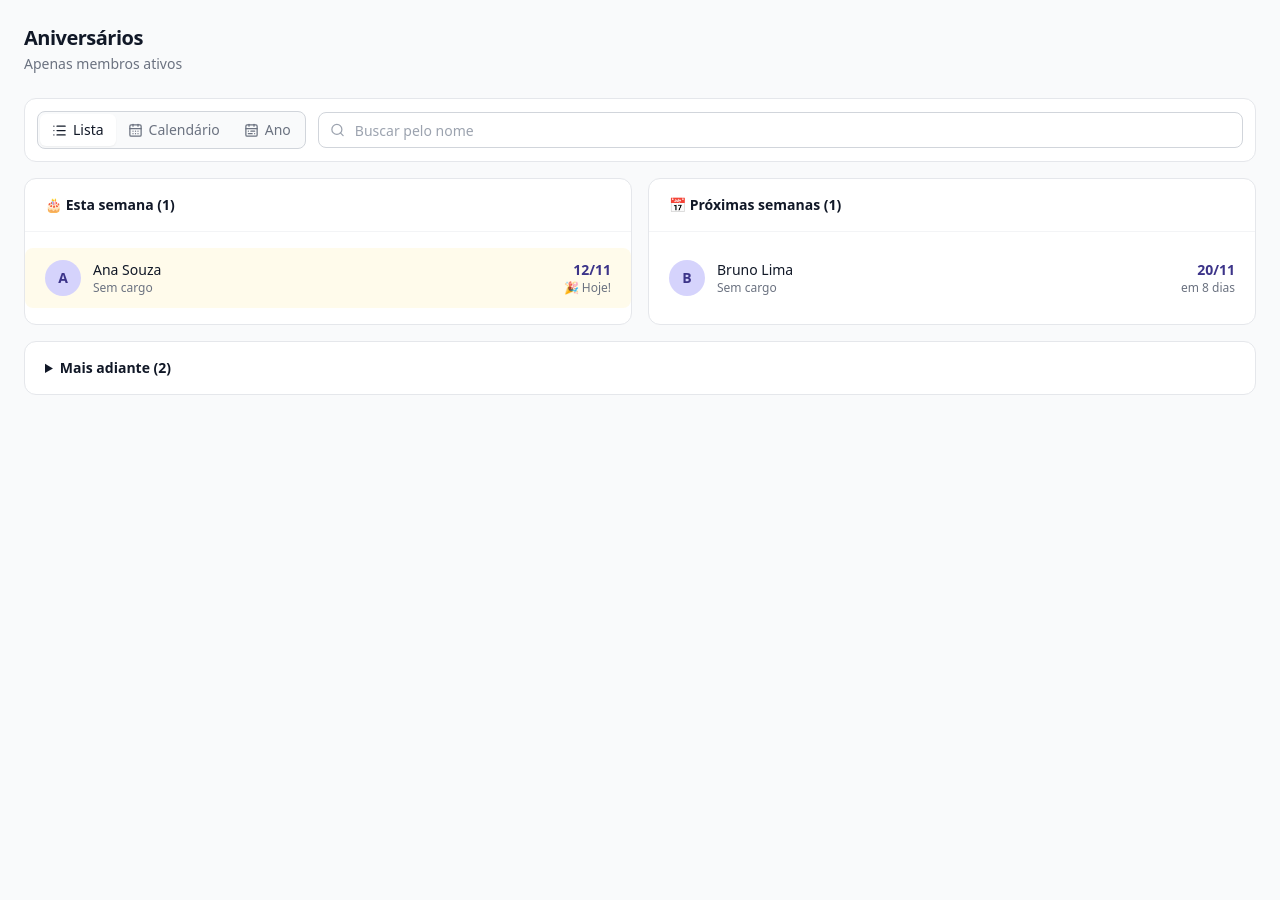
it: AniversariosPage › visão "Ano": os 12 meses, cada um com os aniversariantes em ordem de dia
What coordinates should you click on to do the following:
click the button "Ano"
I would click on:
 (267, 130)
Its box is [232,114,303,146].
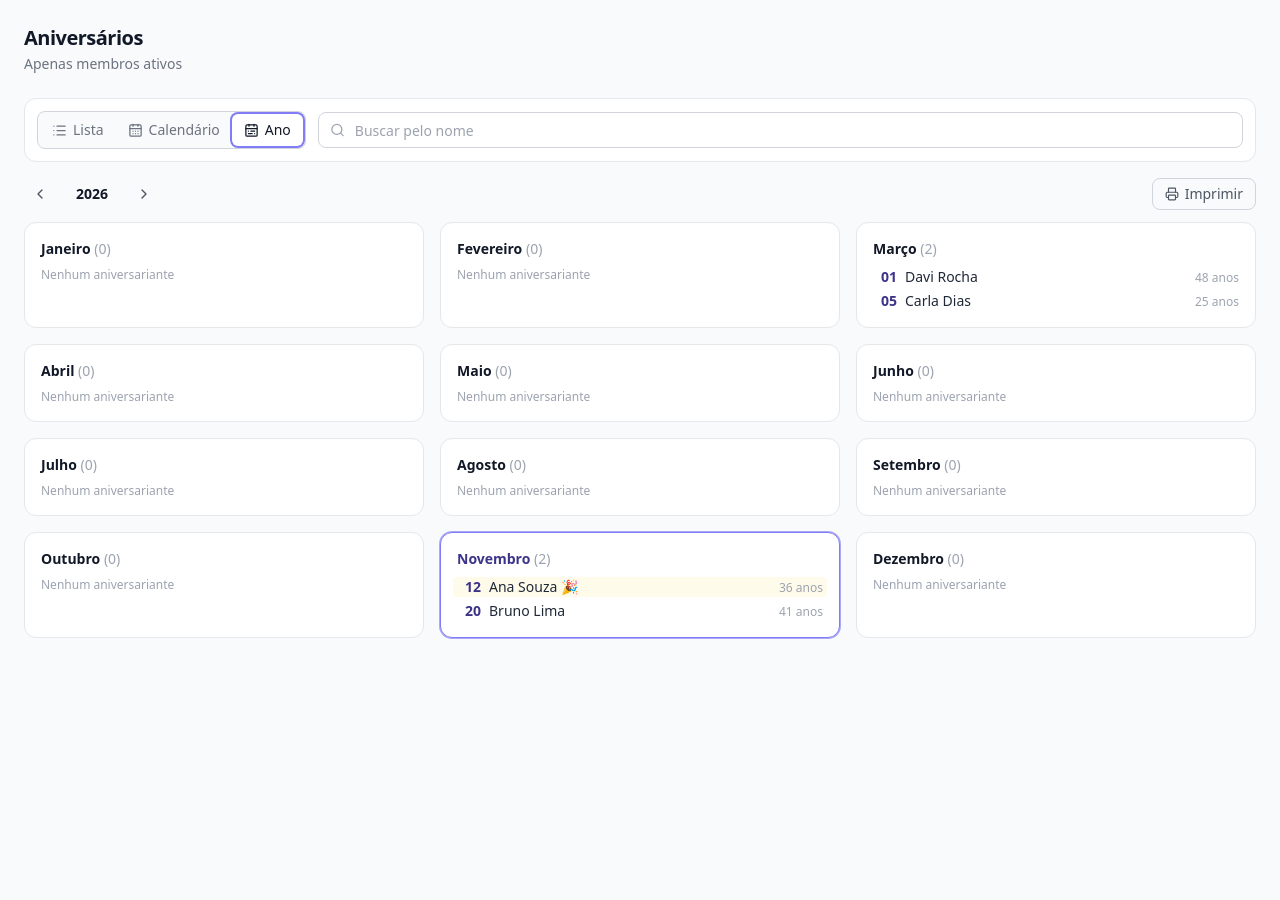
Now the list items read "01Davi Rocha48 anos", "05Carla Dias25 anos", in this order, box [873,267,1239,287]; [873,291,1239,311]
Now the text "Nenhum aniversariante" below "Janeiro" is shown, box [41,266,174,283]
What coordinates should you click on to do the following:
click the button named "Próximo ano"
I would click on:
 (144, 194)
Its box is [128,178,160,210].
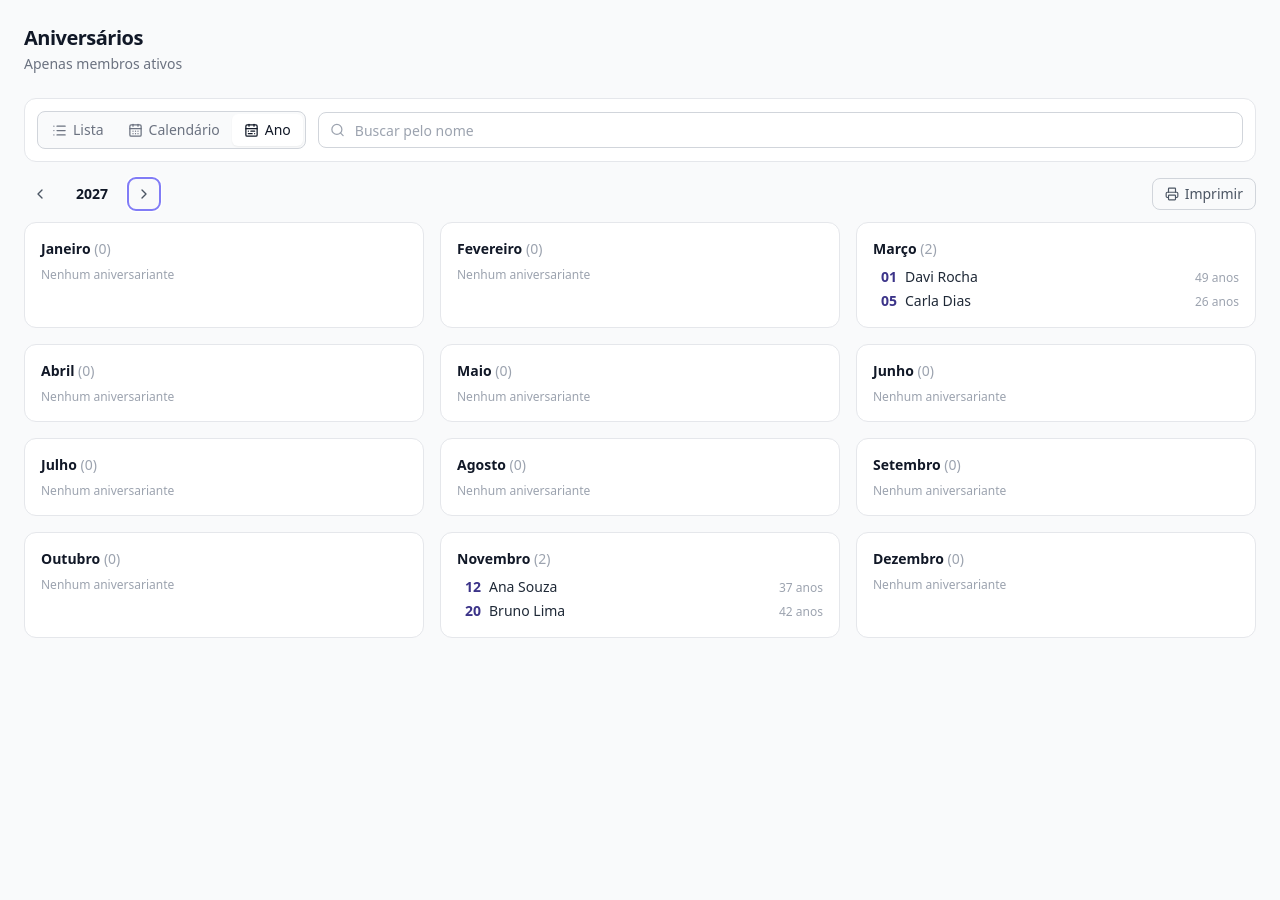
Now the text "49 anos" is shown, box [1195,270,1239,286]
